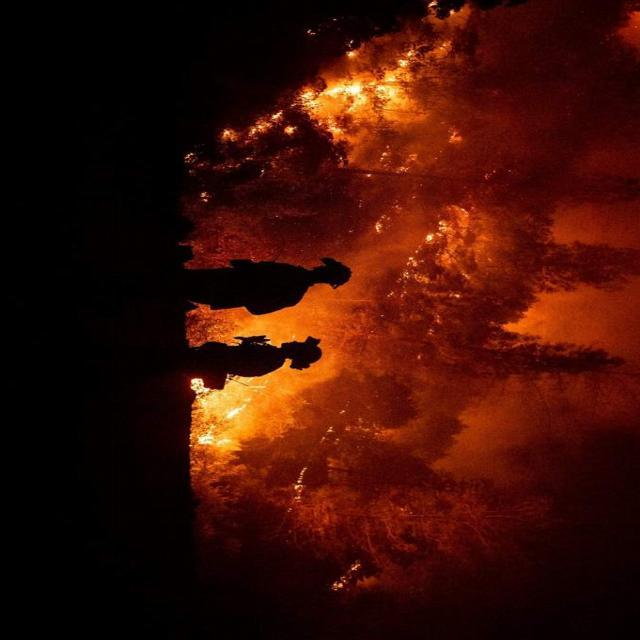Fire: (268, 39, 478, 246), (189, 332, 332, 487)
